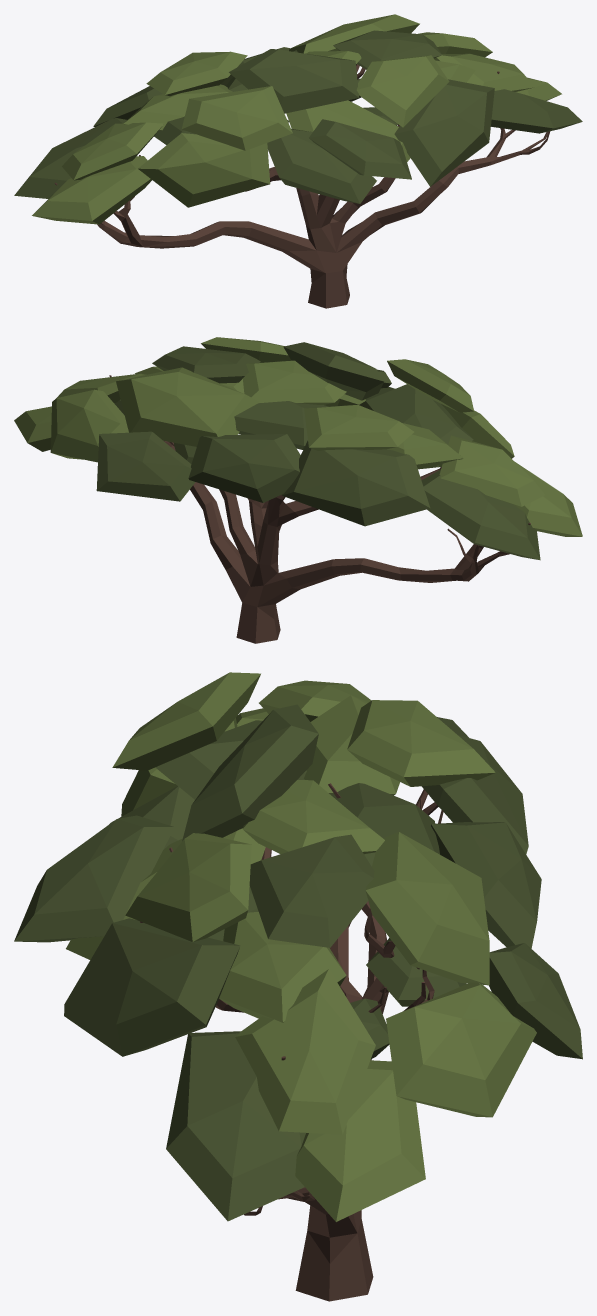
File: Tree2.glb
3 renders of one model, top to bottom at view 1: azimuth 30°, elevation 25°; view 2: azimuth 150°, elevation 25°; view 3: azimuth 270°, elevation 25°, orthographic. The views are drawn at different scales.
Visible parts, largest first — view 1: Tree_Type0_04_mesh; view 2: Tree_Type0_04_mesh; view 3: Tree_Type0_04_mesh.
Boxes of the visible parts, <box> form: Tree_Type0_04_mesh: <box>14,14,582,308</box>; Tree_Type0_04_mesh: <box>14,337,582,643</box>; Tree_Type0_04_mesh: <box>14,672,582,1301</box>.
Bounding box in the file's own units: 7.72 × 3.75 × 3.85.
1 material, 1 textured.
